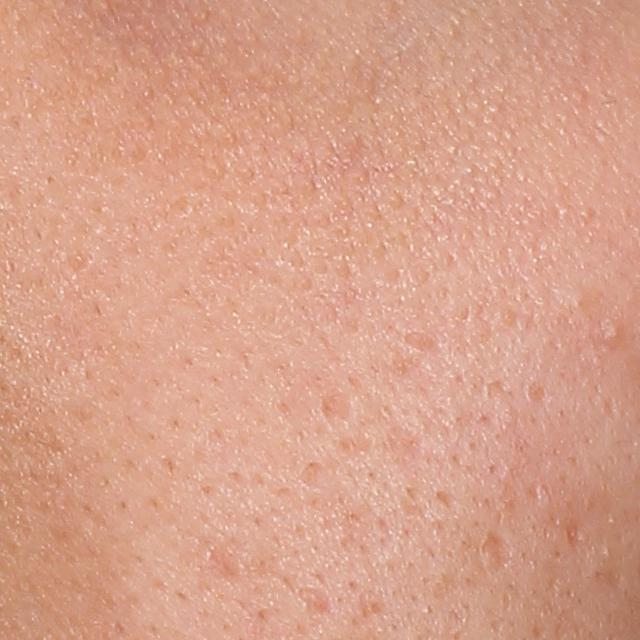atrophic_scar: (338, 513, 382, 562), (473, 530, 514, 577), (318, 388, 354, 436), (295, 586, 335, 622), (404, 326, 441, 354), (564, 519, 582, 555), (528, 379, 548, 403)
comedo: (603, 323, 628, 346)
